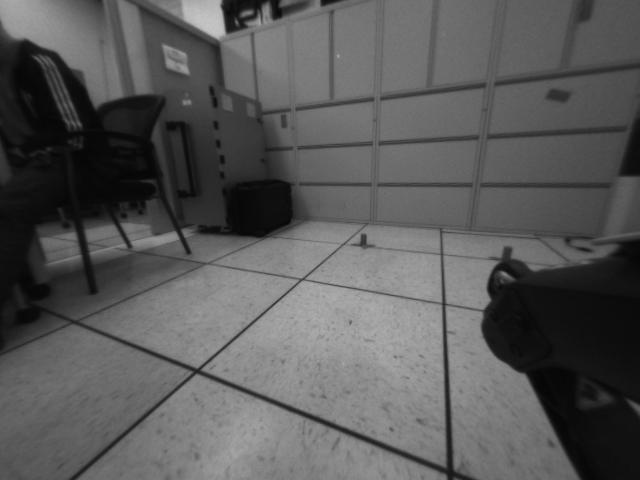X: (350, 233, 379, 250)
